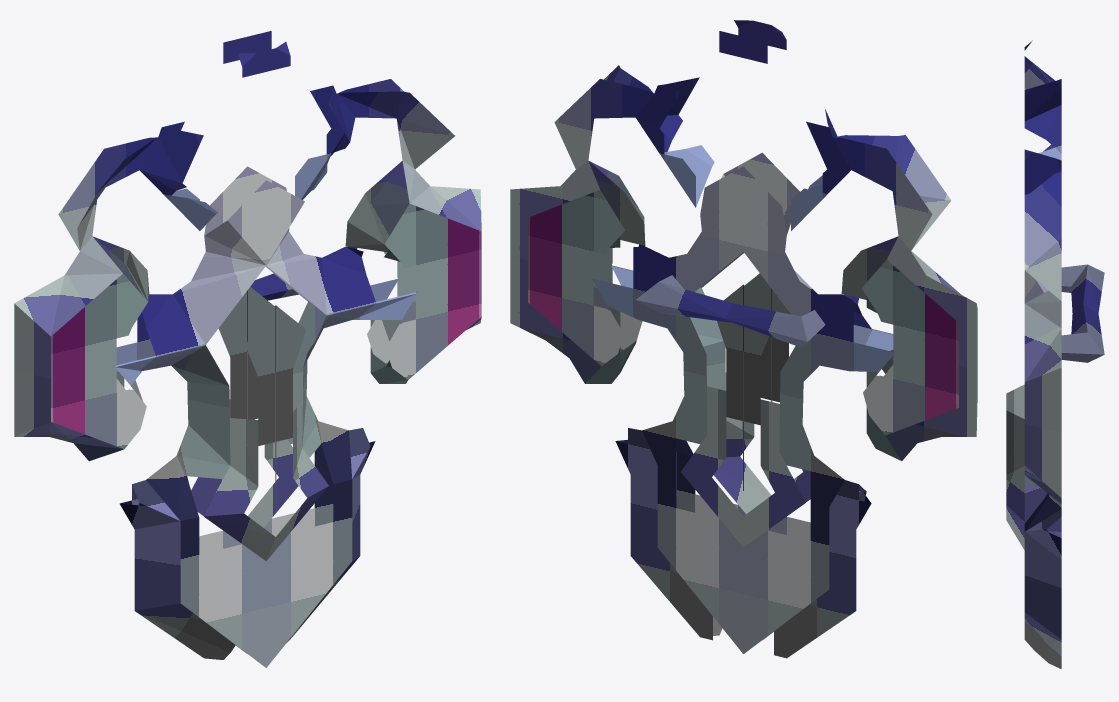
The model's file is edification.obj.
3 renders of one model, left to right at view 1: azimuth 30°, elevation 25°; view 2: azimuth 150°, elevation 25°; view 3: azimuth 270°, elevation 25°, orthographic. The views are drawn at different scales.
Bounding box in the file's own units: 57.05 × 76.94 × 10.67.
